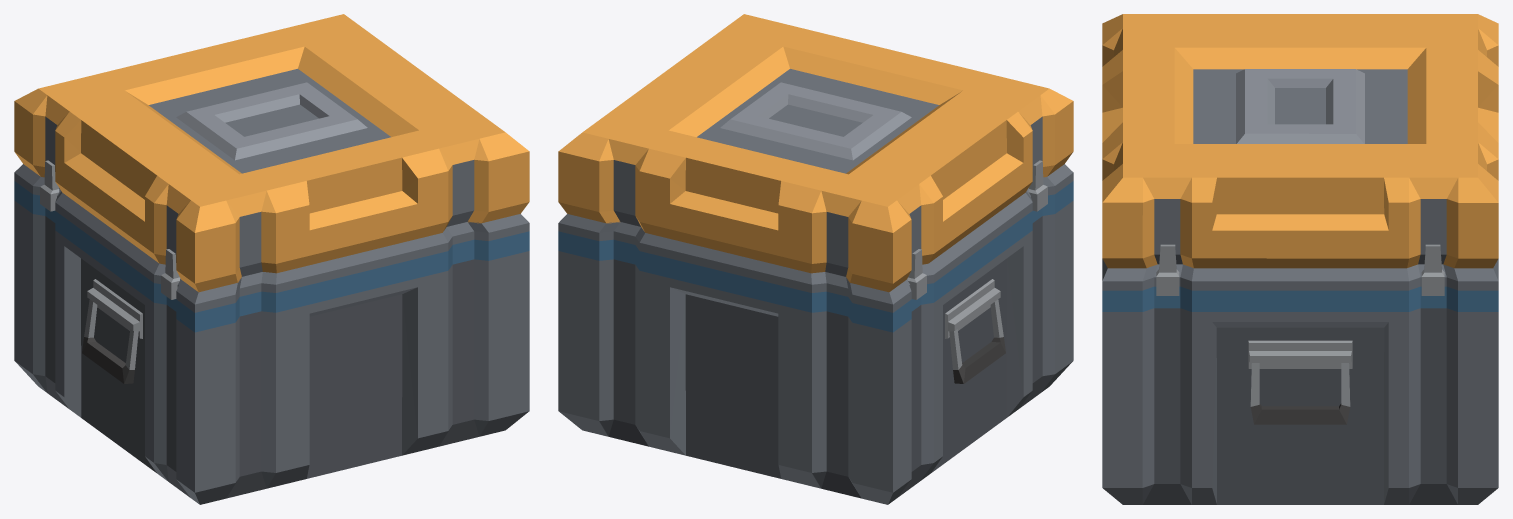
The model's file is RoadCase.obj.
3 views of the same model, side by side, from view 1: azimuth 30°, elevation 25°; view 2: azimuth 150°, elevation 25°; view 3: azimuth 270°, elevation 25° (orthographic). The views are drawn at different scales.
Size of the model in its own units: 1.01 by 0.85 by 0.9325.
1 material, 1 textured.
